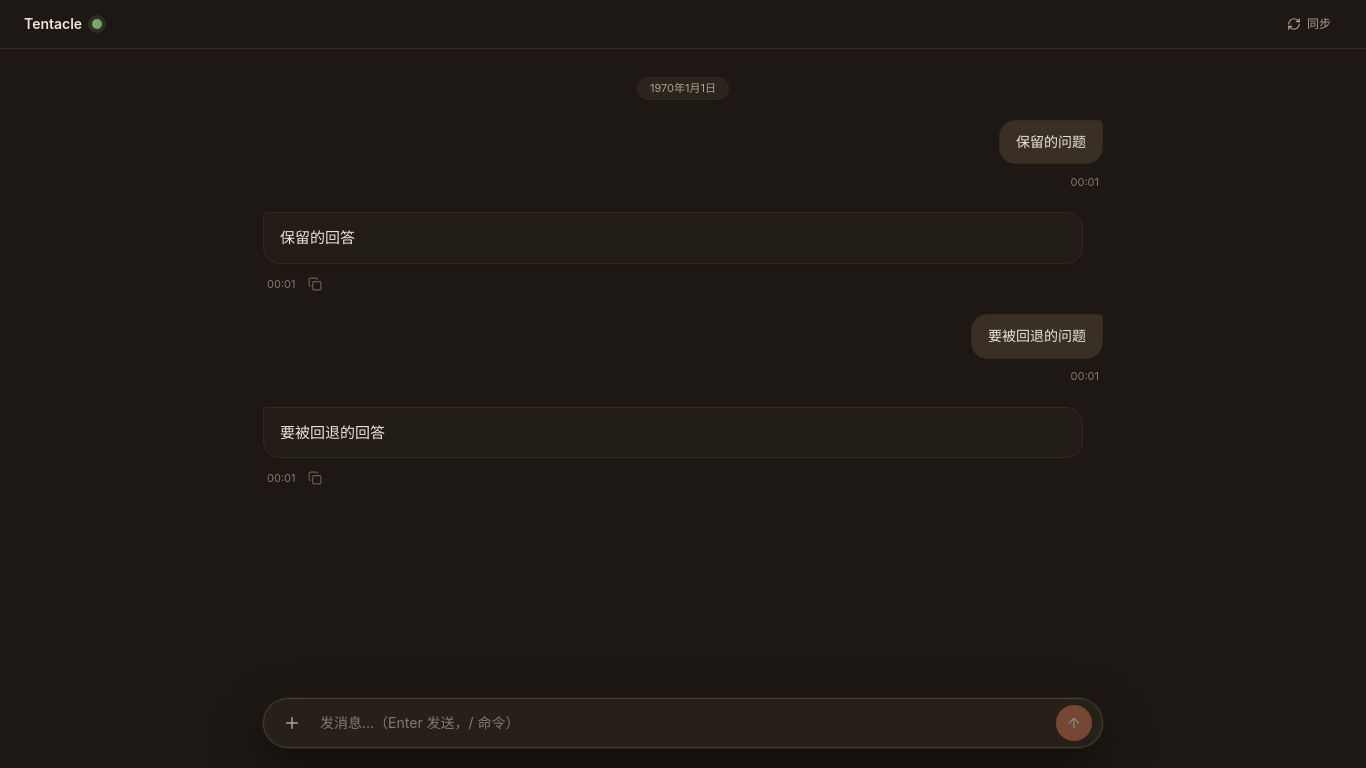
Scenario: MessageTimeline › supports Escape on command palette and removes rolled-back messages from rendered timeline
Type "/rollback" into the text box with test id "chat-input" at [683, 723], box [316,705,1050,741]
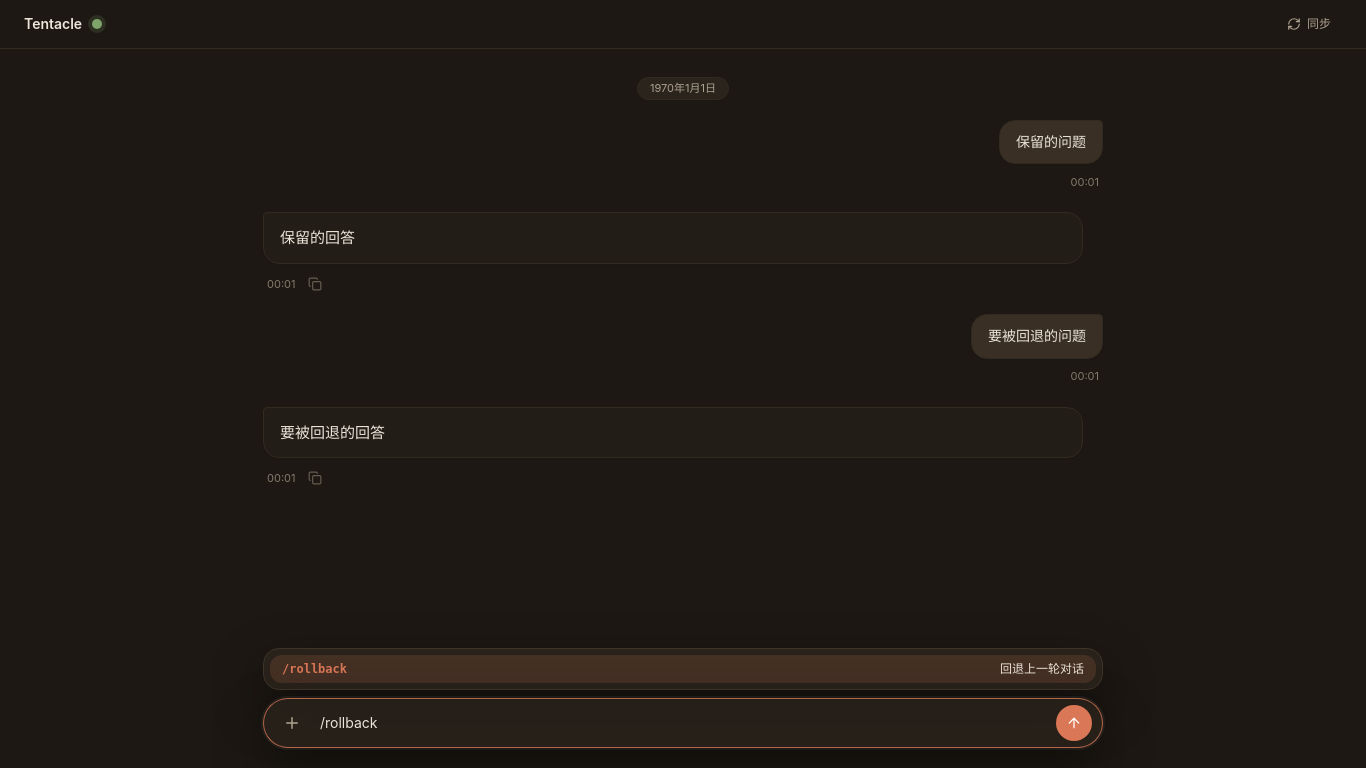
Result: the list with test id "command-palette" is shown at [263,648,1103,690]
Press Escape
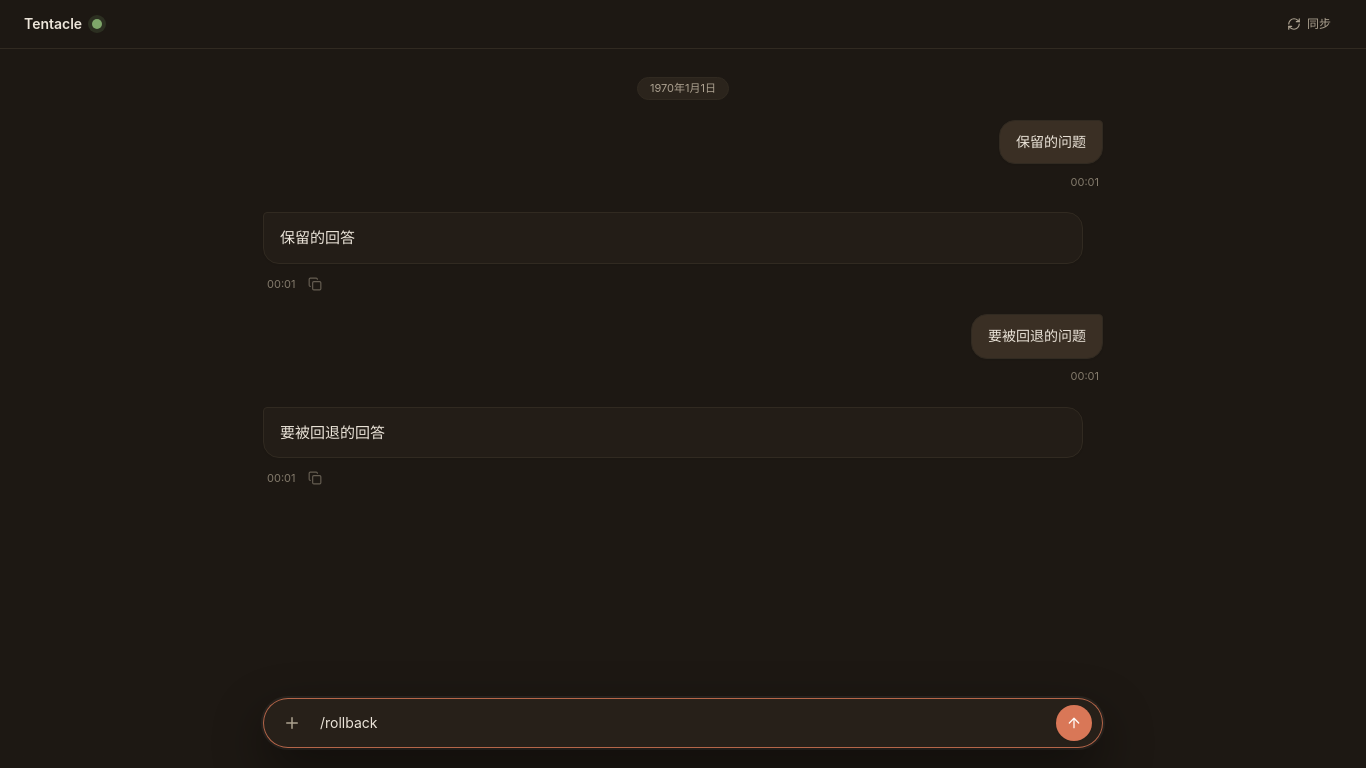
Result: the list with test id "command-palette" is gone
Press Enter
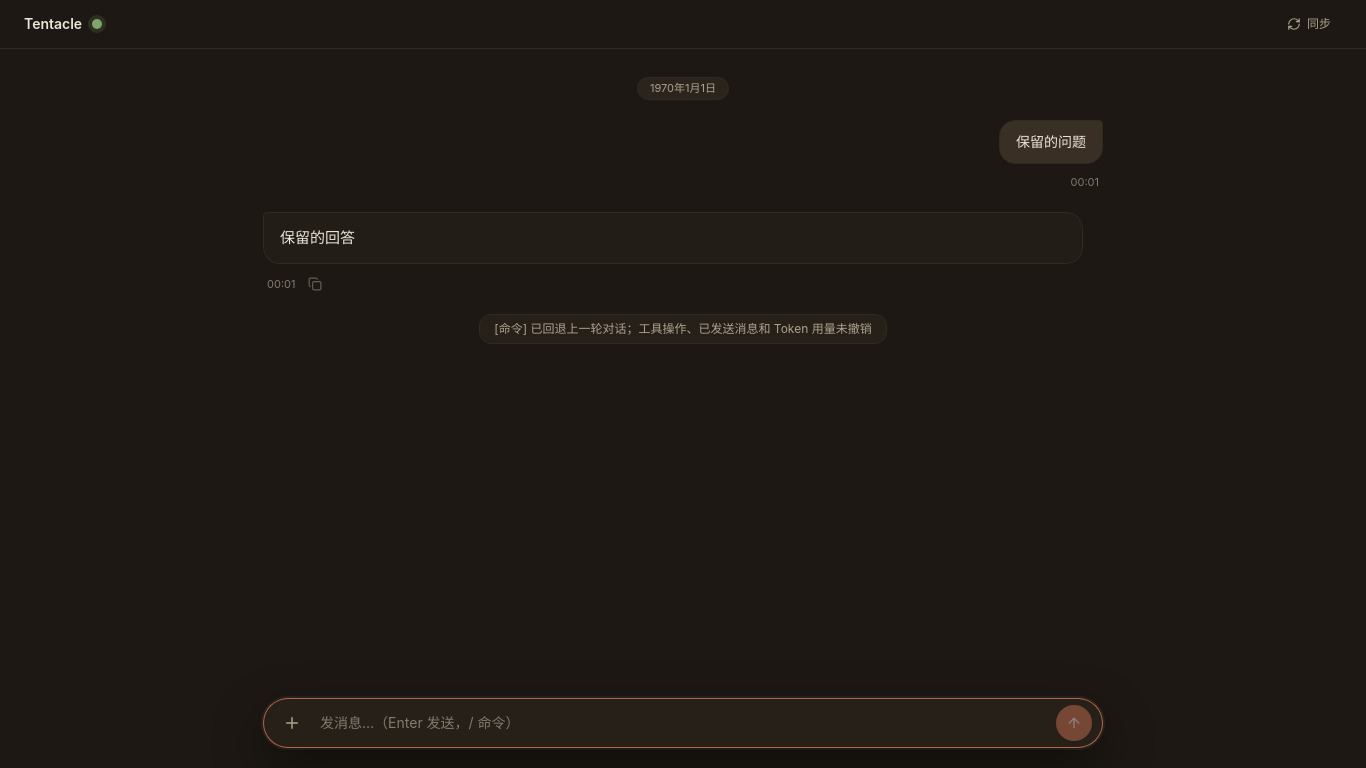
Result: the text "[命令] 已回退上一轮对话；工具操作、已发送消息和 Token 用量未撤销" is shown at [479,314,887,344]
Result: the text "要被回退的问题" is gone
Result: the text "要被回退的回答" is gone
